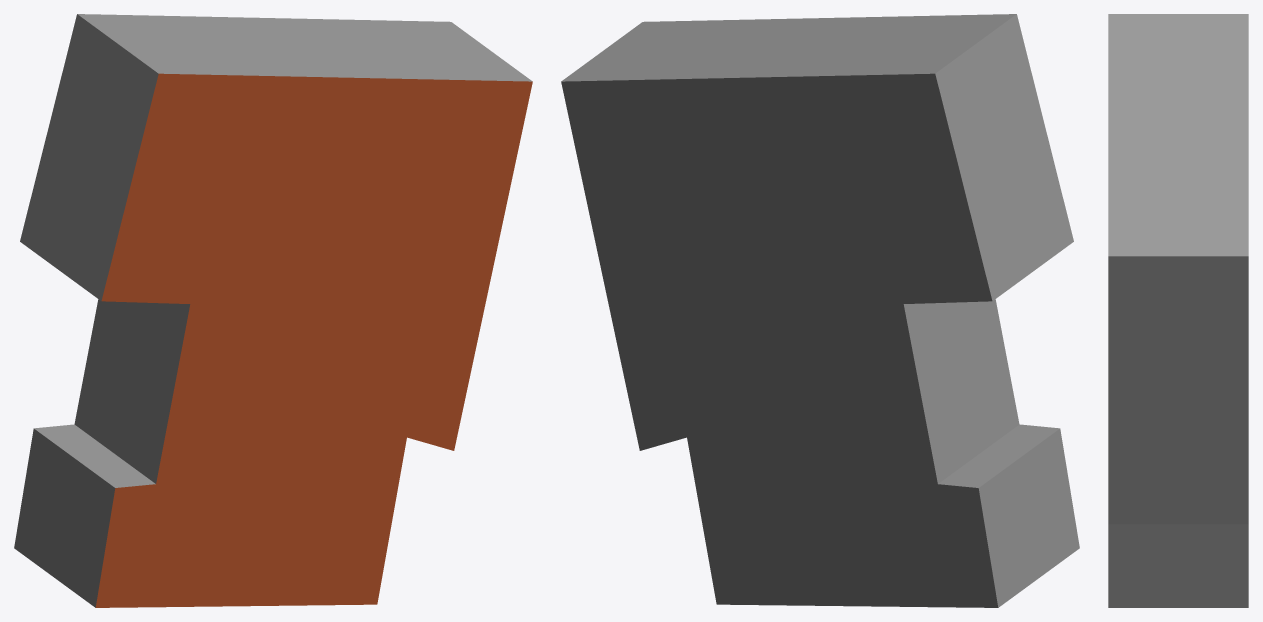
Rendered from construction_6838_assumed_A_Casa_h6m.obj.
The picture shows the model from 3 angles, left to right: view 1: azimuth 30°, elevation 25°; view 2: azimuth 150°, elevation 25°; view 3: azimuth 270°, elevation 25°; orthographic projection. The views are drawn at different scales.
Visible parts, largest first — view 1: construction_6838_assumed_A_Casa; view 2: construction_6838_assumed_A_Casa; view 3: construction_6838_assumed_A_Casa.
Part boxes in pixels (bbox=[...]): construction_6838_assumed_A_Casa: bbox=[14, 14, 532, 607]; construction_6838_assumed_A_Casa: bbox=[561, 14, 1079, 607]; construction_6838_assumed_A_Casa: bbox=[1108, 14, 1248, 607].
Bounding box in the file's own units: 18.56 × 23.7 × 6.
